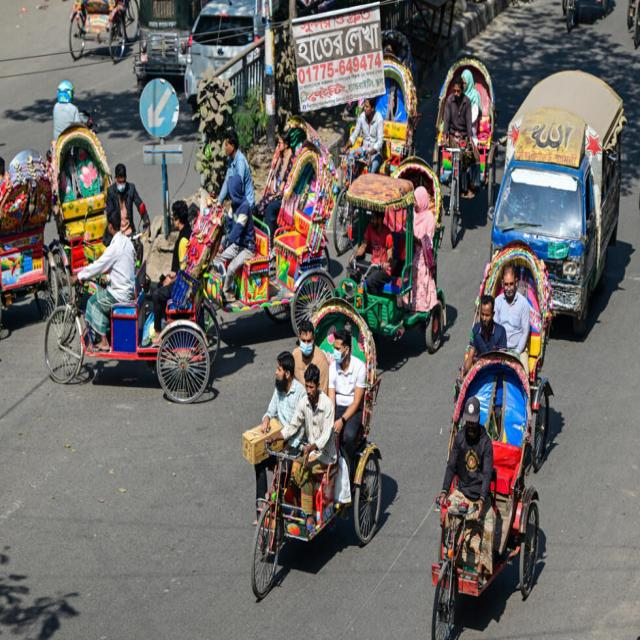Leguna: (497, 68, 628, 319)
Rickshaw: (243, 296, 383, 593), (41, 192, 233, 400), (430, 350, 542, 640), (436, 51, 496, 254)
